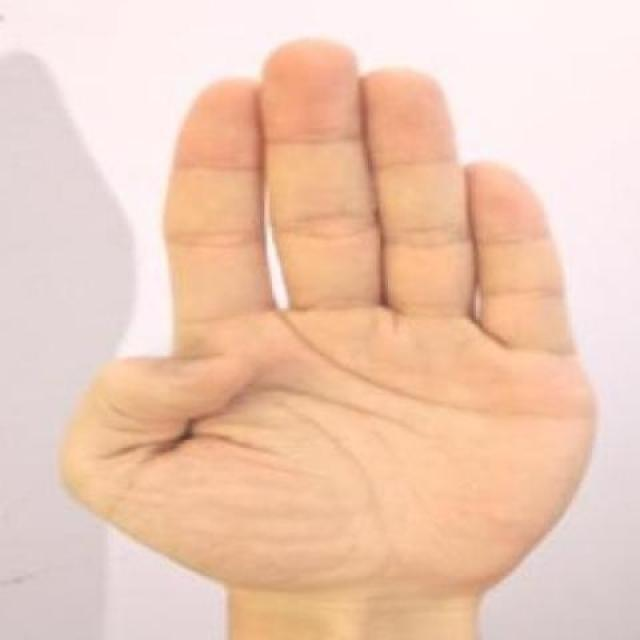Open Hand: (57, 29, 608, 592)
